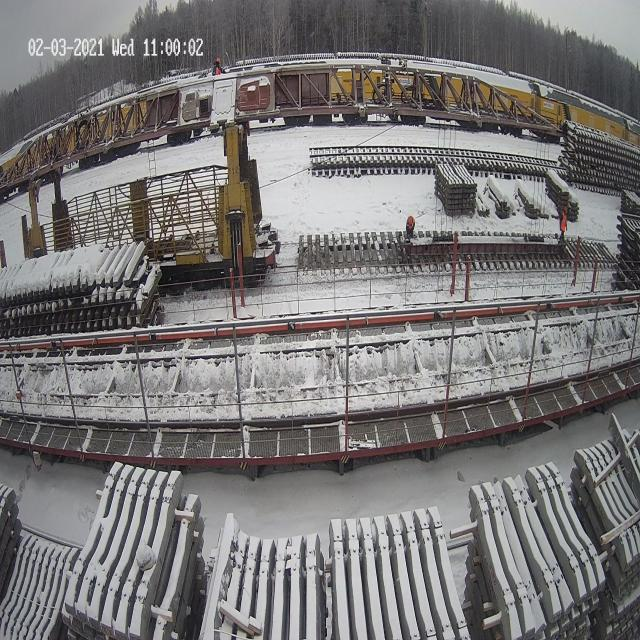Person: (209, 46, 227, 76), (559, 206, 567, 240), (406, 215, 414, 241)
